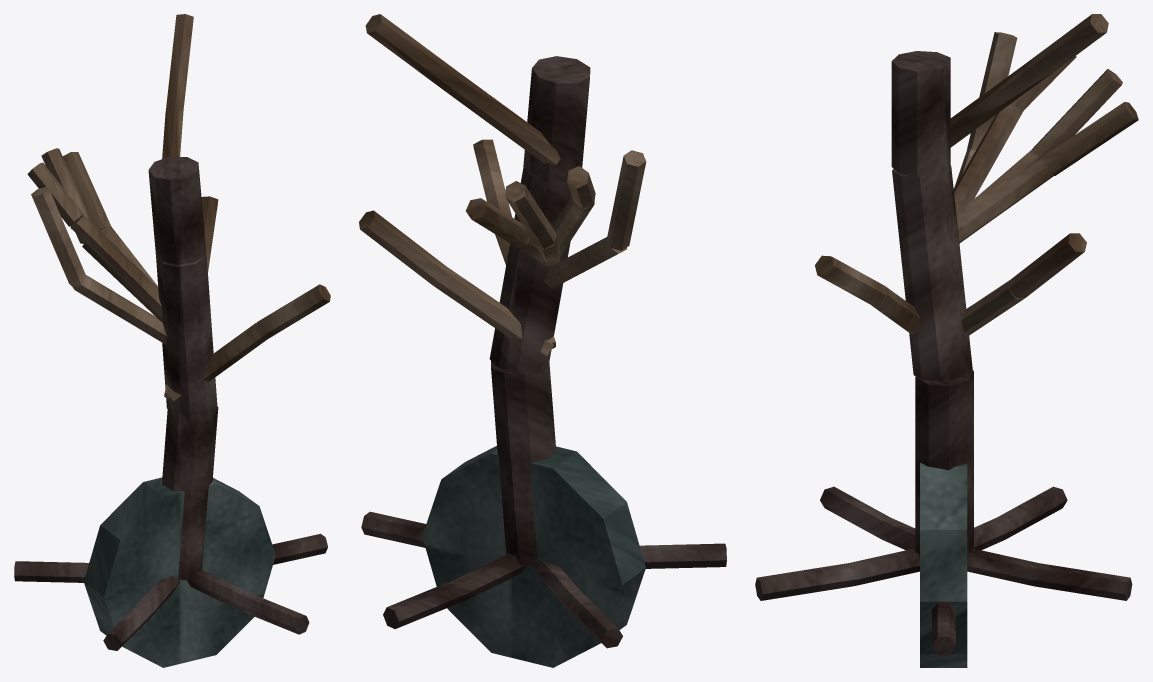
Rendered from 0143_dead_tree_18.glb.
The picture shows the model from 3 angles, left to right: view 1: azimuth 30°, elevation 25°; view 2: azimuth 150°, elevation 25°; view 3: azimuth 270°, elevation 25°; orthographic projection. The views are drawn at different scales.
Visible parts, largest first — view 1: wood_dark, stone_dark, wood; view 2: wood_dark, stone_dark, wood; view 3: wood_dark, wood, stone_dark.
Part boxes in pixels (bbox=[...]): wood_dark: bbox=[14, 156, 327, 650]; stone_dark: bbox=[84, 477, 275, 667]; wood: bbox=[27, 14, 330, 402]; wood_dark: bbox=[361, 56, 726, 648]; stone_dark: bbox=[422, 446, 645, 667]; wood: bbox=[359, 14, 646, 357]; wood_dark: bbox=[755, 51, 1132, 655]; wood: bbox=[815, 14, 1138, 335]; stone_dark: bbox=[920, 462, 967, 667].
Size of the model in its own units: 1.66 by 3.46 by 1.78.
Materials: 3 (3 with a texture image).
